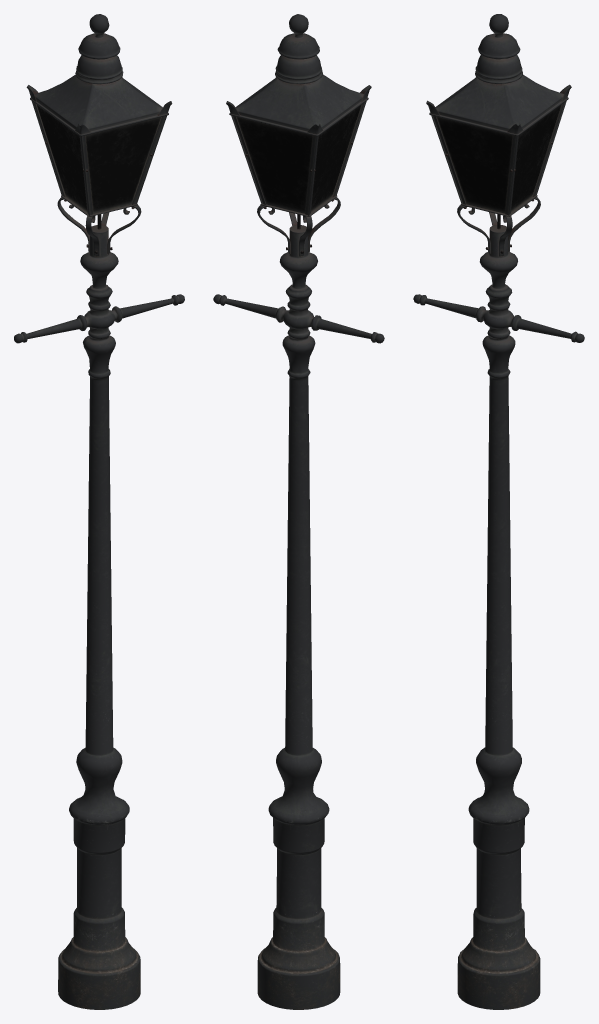
The model's file is street_lamp_01.glb.
3 renders of one model, left to right at view 1: azimuth 30°, elevation 25°; view 2: azimuth 150°, elevation 25°; view 3: azimuth 330°, elevation 25°, orthographic.
Visible parts, largest first — view 1: street_lamp_01; view 2: street_lamp_01; view 3: street_lamp_01.
Boxes of the visible parts, bbox=[...] form: street_lamp_01: bbox=[14, 14, 184, 1009]; street_lamp_01: bbox=[213, 14, 384, 1009]; street_lamp_01: bbox=[413, 14, 584, 1009].
Size of the model in its own units: 0.7025 by 3.87 by 0.3865.
2 materials, 2 textured.
